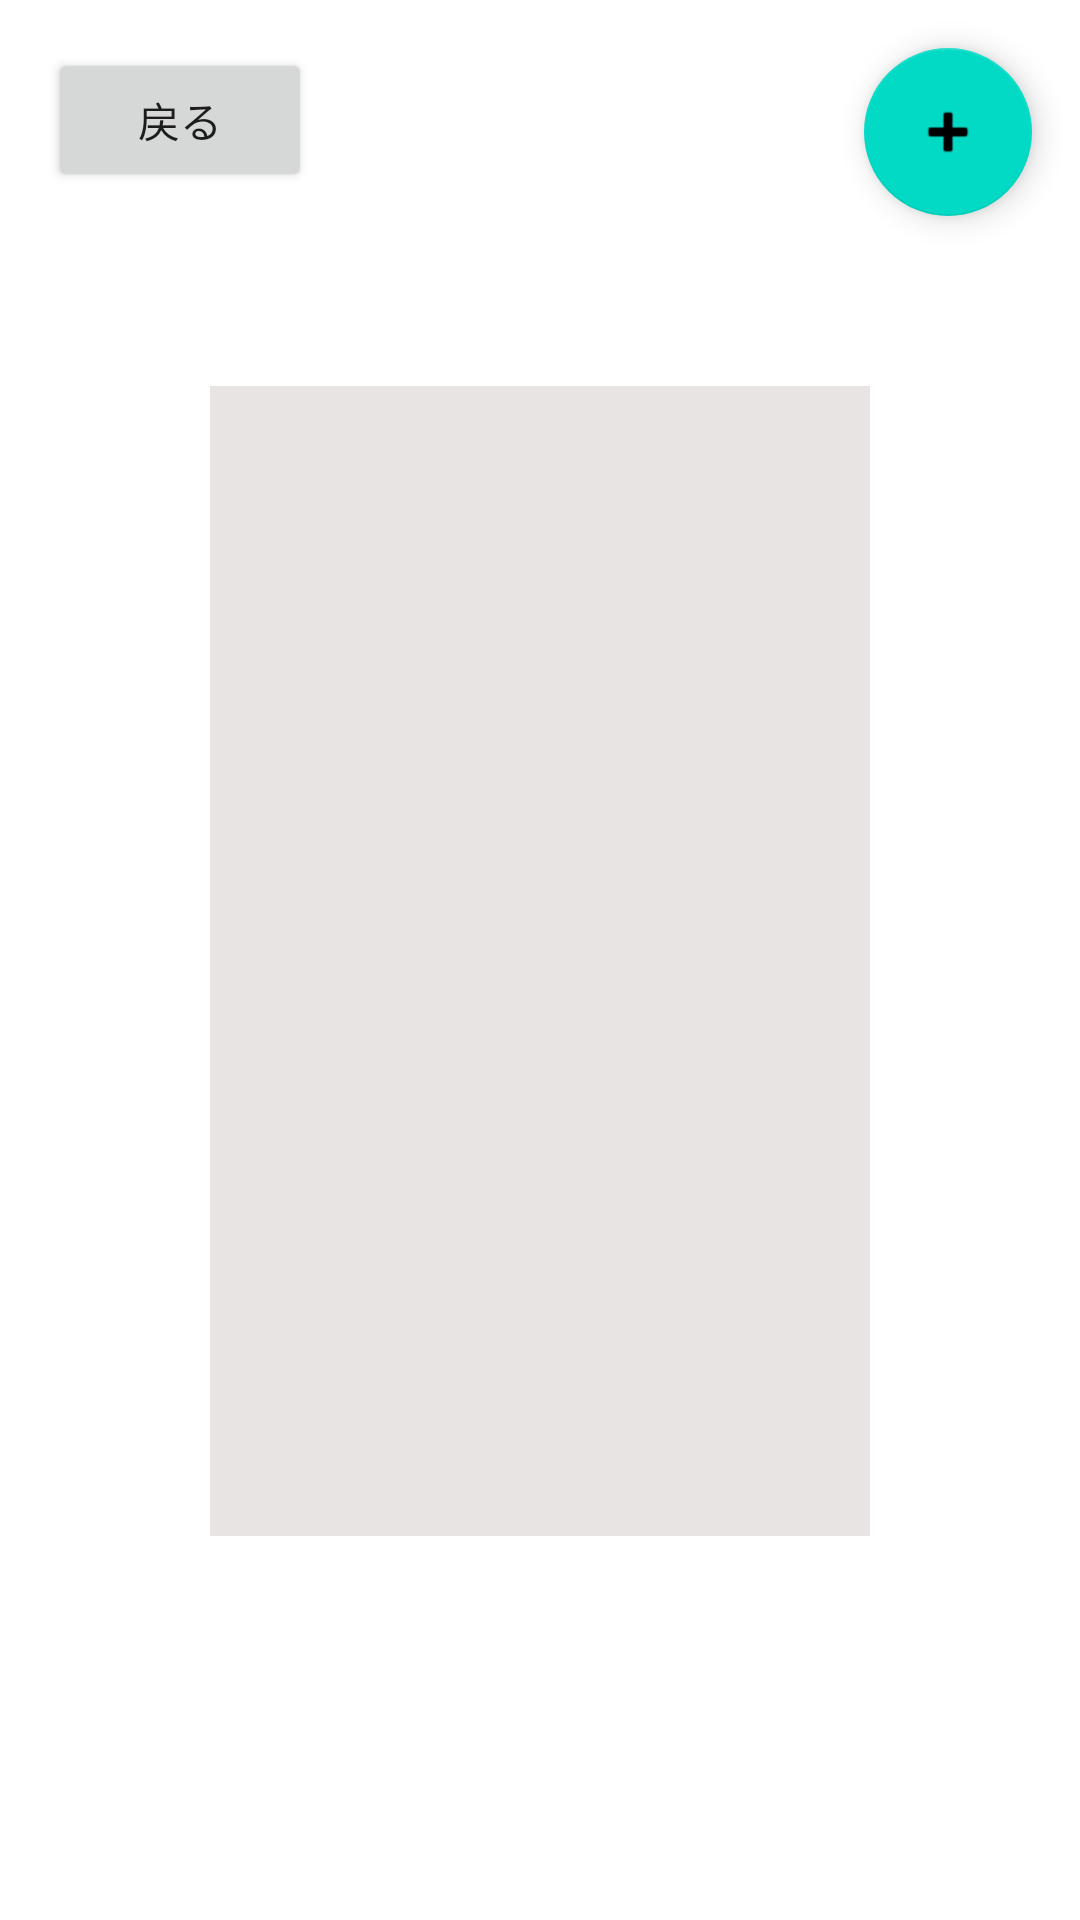

Point at icon controls on the screen. Image size 1080px×1920px, points as (x=x, y=y).
add: (x=948, y=132)
